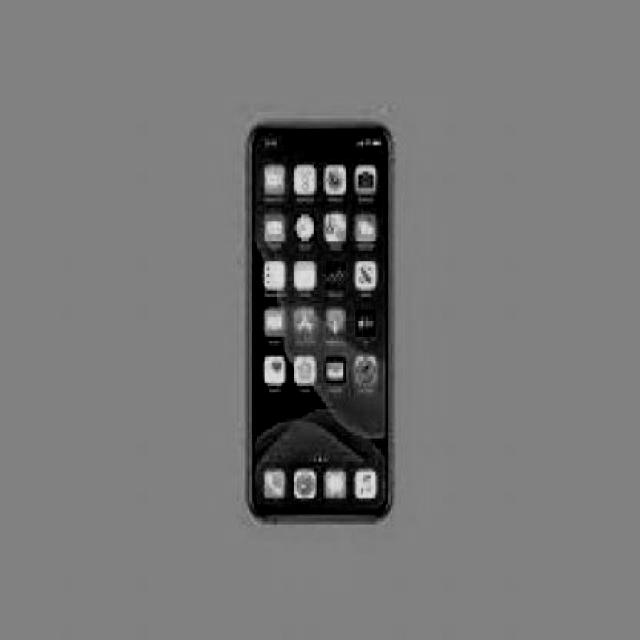fake: (250, 122, 393, 522)
